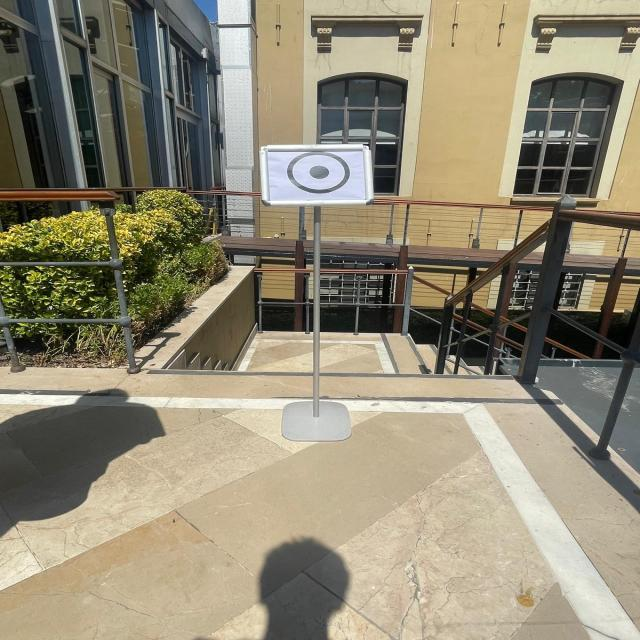Target: (242, 130, 392, 212)
inner: (299, 161, 337, 184)
